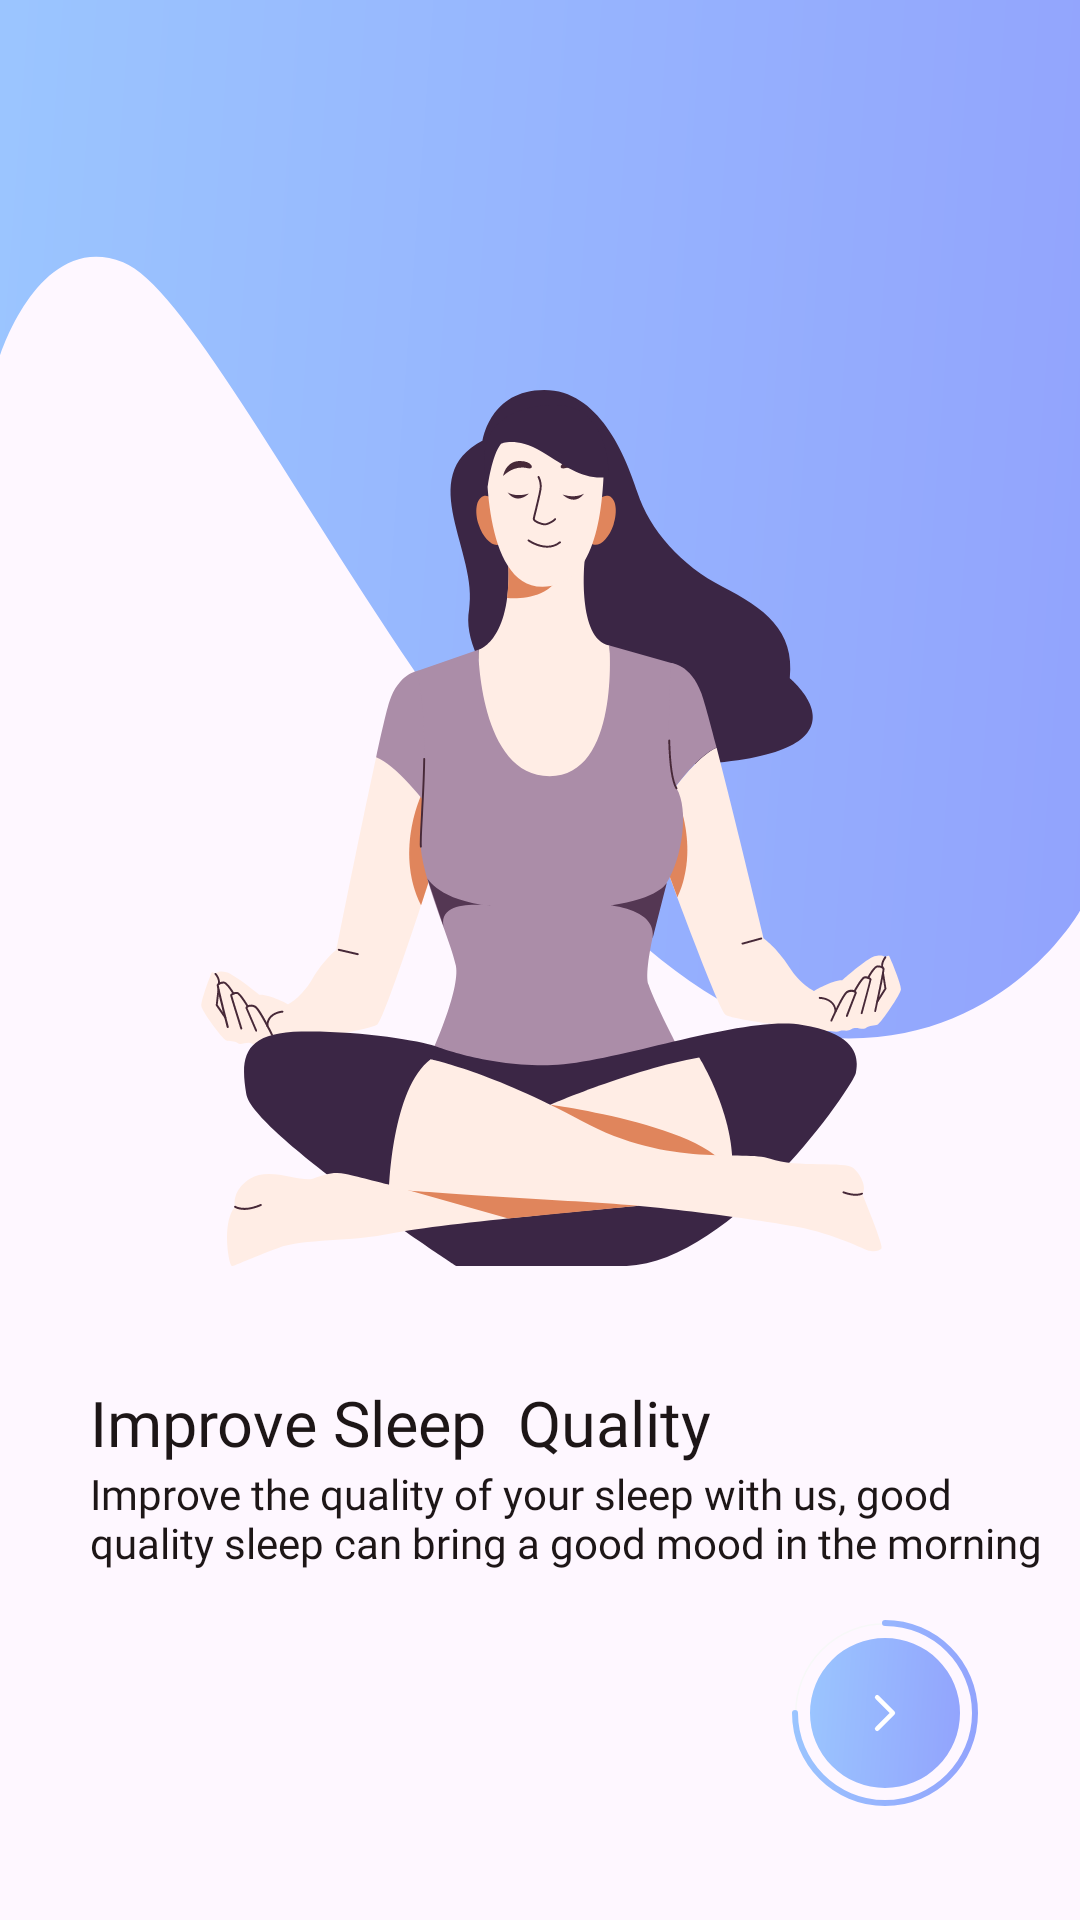

Named icons in this screenshot (1080×1920) and their bounding boxes, (x1, y1, x2, y2):
round: (792, 1620, 978, 1806)
